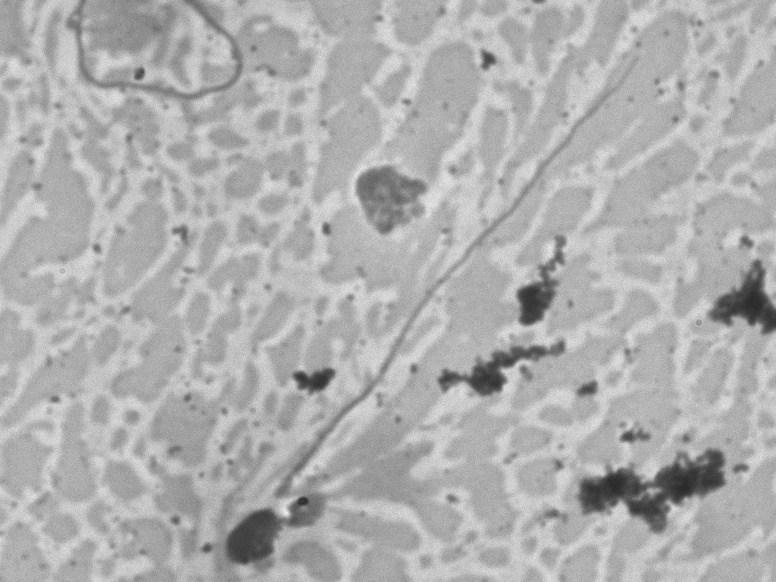Abnormal: (206, 31, 660, 570)
